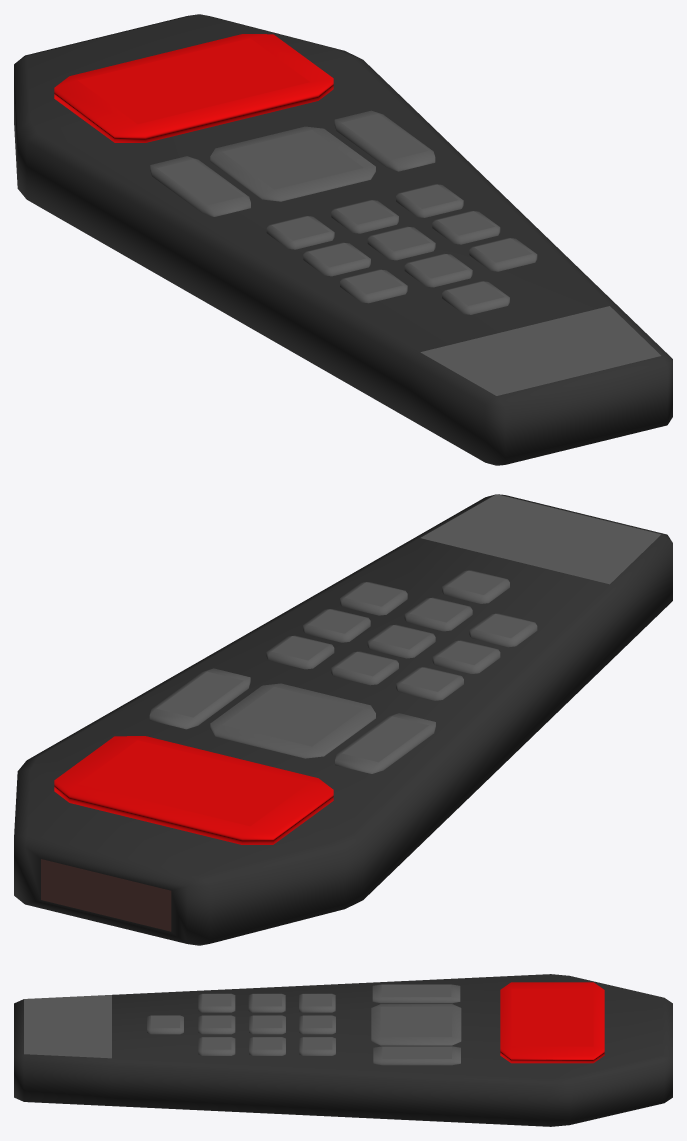
Rendered from TVRemote.fbx.
The picture shows the model from 3 angles, top to bottom: view 1: azimuth 30°, elevation 25°; view 2: azimuth 150°, elevation 25°; view 3: azimuth 270°, elevation 25°; orthographic projection. The views are drawn at different scales.
Parts seen in each view (by area): view 1: RemoteBase, LogoRemotePlaceHolder, OnOffButton.001, OnOffButton, BigButton.001, BigButton, ProgramButton.001, VolumeButton.001, VolumeButton, ProgramButton, Button6, Button1 (+18 smaller); view 2: RemoteBase, LogoRemotePlaceHolder, OnOffButton.001, OnOffButton, IRPlaceHolder, BigButton.001, BigButton, ProgramButton.001, VolumeButton.001, VolumeButton, ProgramButton, Button5 (+19 smaller); view 3: RemoteBase, LogoRemotePlaceHolder, OnOffButton.001, OnOffButton, BigButton.001, BigButton, ProgramButton.001, ProgramButton, VolumeButton.001, VolumeButton, Button8, Button9 (+18 smaller).
Boxes of the visible parts, x1,y1,x2,y2 form: RemoteBase: (14, 14, 672, 465); LogoRemotePlaceHolder: (420, 306, 660, 395); OnOffButton.001: (78, 38, 310, 124); OnOffButton: (54, 34, 333, 142); BigButton.001: (222, 130, 363, 189); BigButton: (210, 126, 375, 201); ProgramButton.001: (157, 159, 243, 205); VolumeButton.001: (341, 114, 428, 159); VolumeButton: (334, 110, 435, 171); ProgramButton: (150, 156, 250, 216); Button6: (432, 210, 500, 244); Button1: (266, 216, 334, 249); RemoteBase: (14, 494, 672, 945); LogoRemotePlaceHolder: (421, 494, 660, 584); OnOffButton.001: (78, 740, 309, 826); OnOffButton: (54, 736, 333, 844); IRPlaceHolder: (41, 859, 171, 931); BigButton.001: (222, 687, 363, 746); BigButton: (210, 683, 375, 758); ProgramButton.001: (342, 716, 428, 762); VolumeButton.001: (157, 671, 243, 717); VolumeButton: (149, 668, 250, 729); ProgramButton: (335, 713, 435, 773); Button5: (367, 624, 435, 658); RemoteBase: (14, 974, 672, 1126); LogoRemotePlaceHolder: (24, 995, 111, 1058); OnOffButton.001: (511, 988, 593, 1046); OnOffButton: (500, 982, 604, 1063); BigButton.001: (380, 1007, 451, 1036); BigButton: (371, 1004, 461, 1045); ProgramButton.001: (381, 984, 451, 996); ProgramButton: (372, 984, 460, 1003); VolumeButton.001: (382, 1046, 451, 1058); VolumeButton: (373, 1046, 460, 1065); Button8: (198, 1015, 235, 1034); Button9: (198, 1037, 235, 1055).
Bounding box in the file's own units: 182 × 42.66 × 450.
